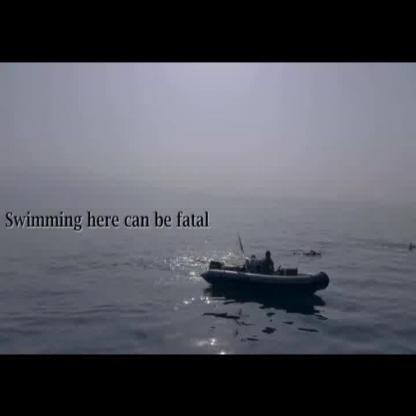Boat: (200, 247, 332, 300)
